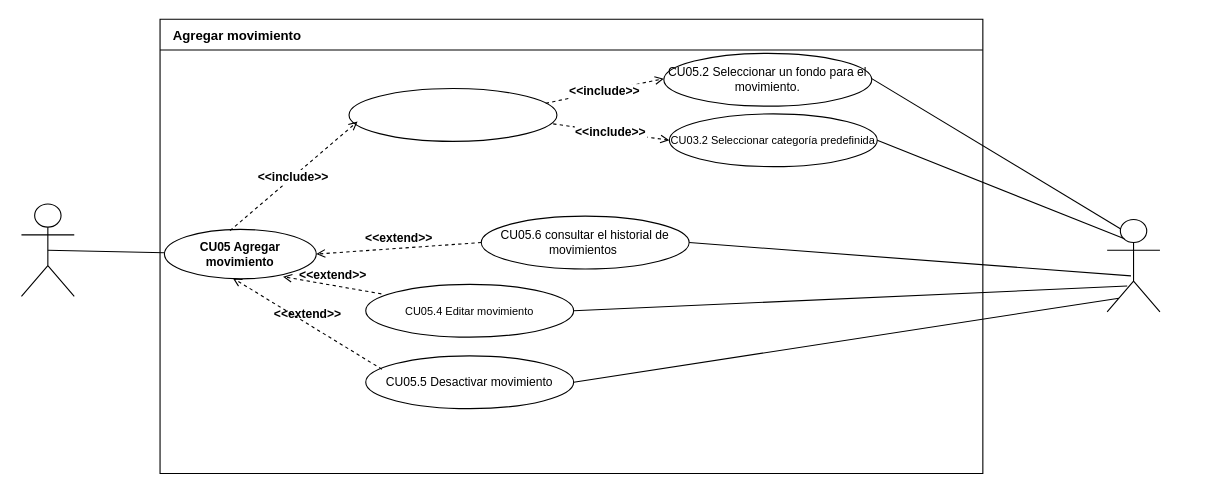
Some shapes in this 1205 by 493 pixel diagram are drawn without their labels. The centre of each missing label's shape, as x and y in pixels:
Base de Datos: the point at 1133,265
CU05.1 Registrar movimiento: the point at 452,114
Usuario: the point at 47,249
